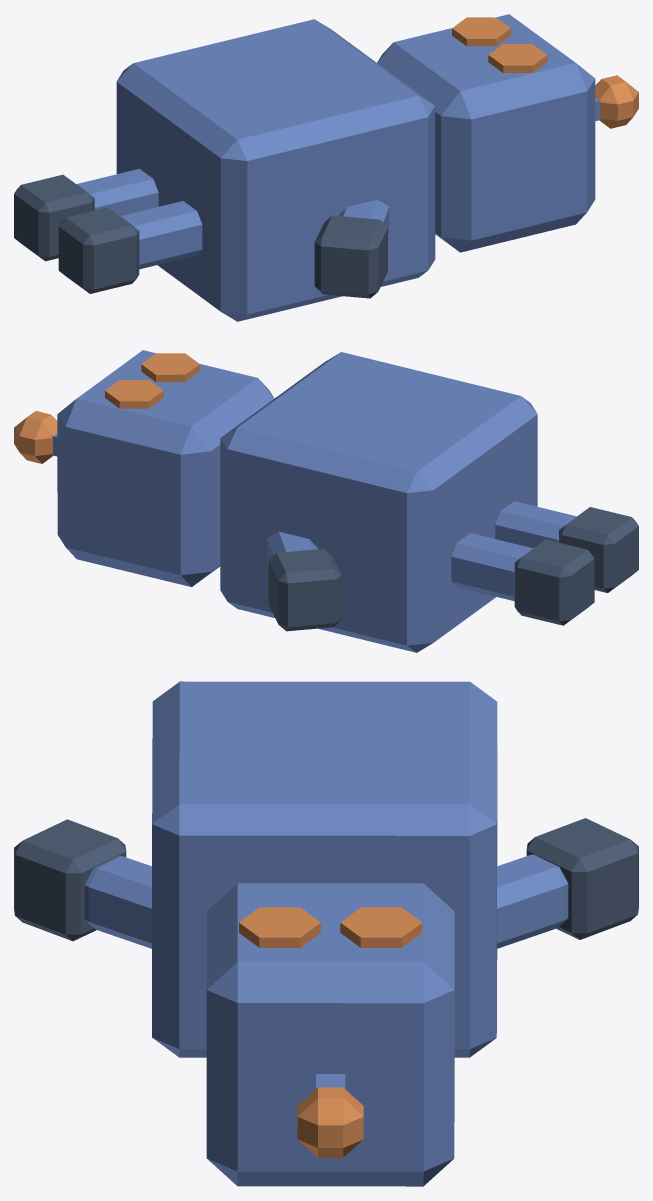
File: RobotOrderCompleted.fbx
3 views of the same model, one above another, from view 1: azimuth 30°, elevation 25°; view 2: azimuth 150°, elevation 25°; view 3: azimuth 270°, elevation 25° (orthographic). The views are drawn at different scales.
Visible parts, largest first — view 1: RobotOrderComplited; view 2: RobotOrderComplited; view 3: RobotOrderComplited.
Boxes of the visible parts, <box> form: RobotOrderComplited: <box>14,14,638,321</box>; RobotOrderComplited: <box>14,350,638,652</box>; RobotOrderComplited: <box>14,681,638,1186</box>.
Size of the model in its own units: 44.31 by 13.53 by 29.34.
